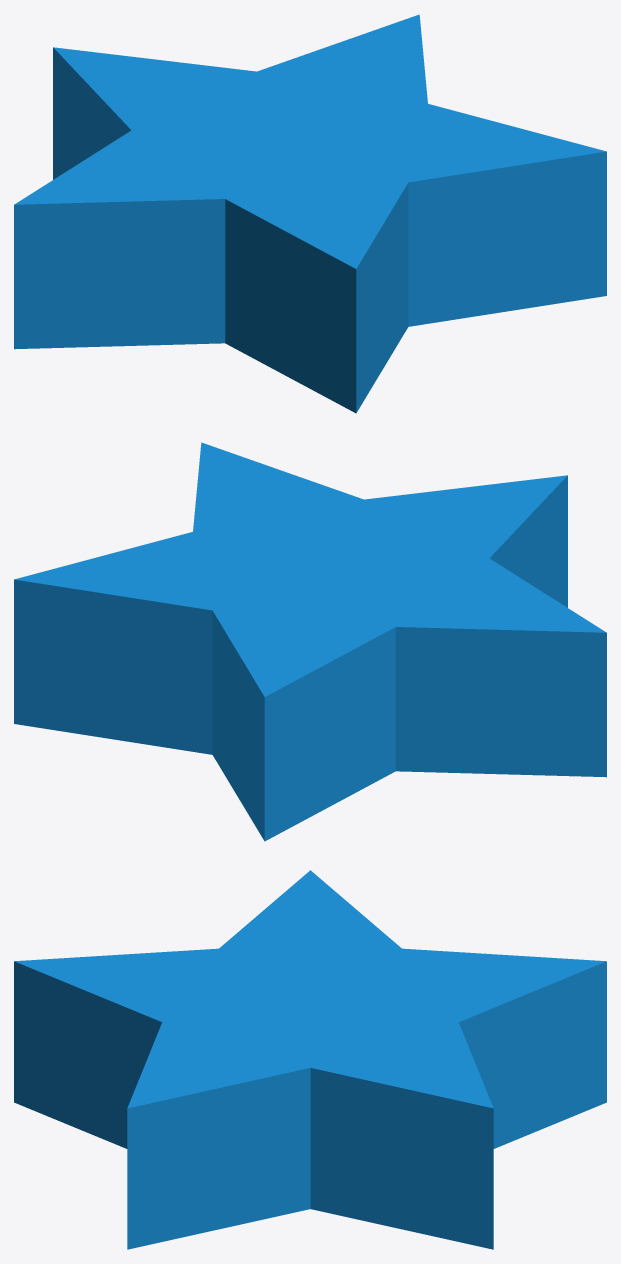
File: star.fbx
The picture shows the model from 3 angles, top to bottom: view 1: azimuth 30°, elevation 25°; view 2: azimuth 150°, elevation 25°; view 3: azimuth 270°, elevation 25°; orthographic projection. The views are drawn at different scales.
Visible parts, largest first — view 1: Star.001; view 2: Star.001; view 3: Star.001.
Part boxes in pixels (bbox=[...]): Star.001: bbox=[14, 14, 606, 413]; Star.001: bbox=[14, 442, 606, 841]; Star.001: bbox=[14, 870, 606, 1249].
Bounding box in the file's own units: 181 × 50 × 190.
